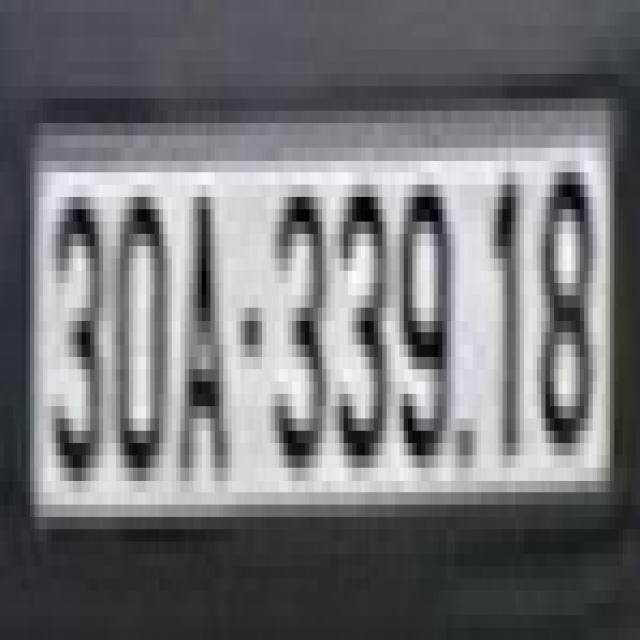0: (111, 184, 168, 480)
1: (490, 172, 524, 456)
3: (270, 172, 330, 468), (335, 172, 391, 468), (47, 184, 103, 480)
8: (537, 160, 593, 456)
9: (399, 172, 451, 456)
A: (176, 172, 232, 480)
